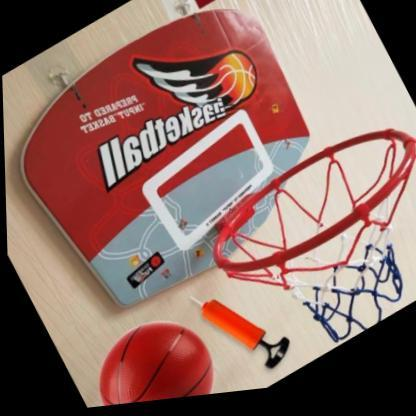basketball: (76, 299, 231, 410)
rim: (193, 115, 416, 393)
